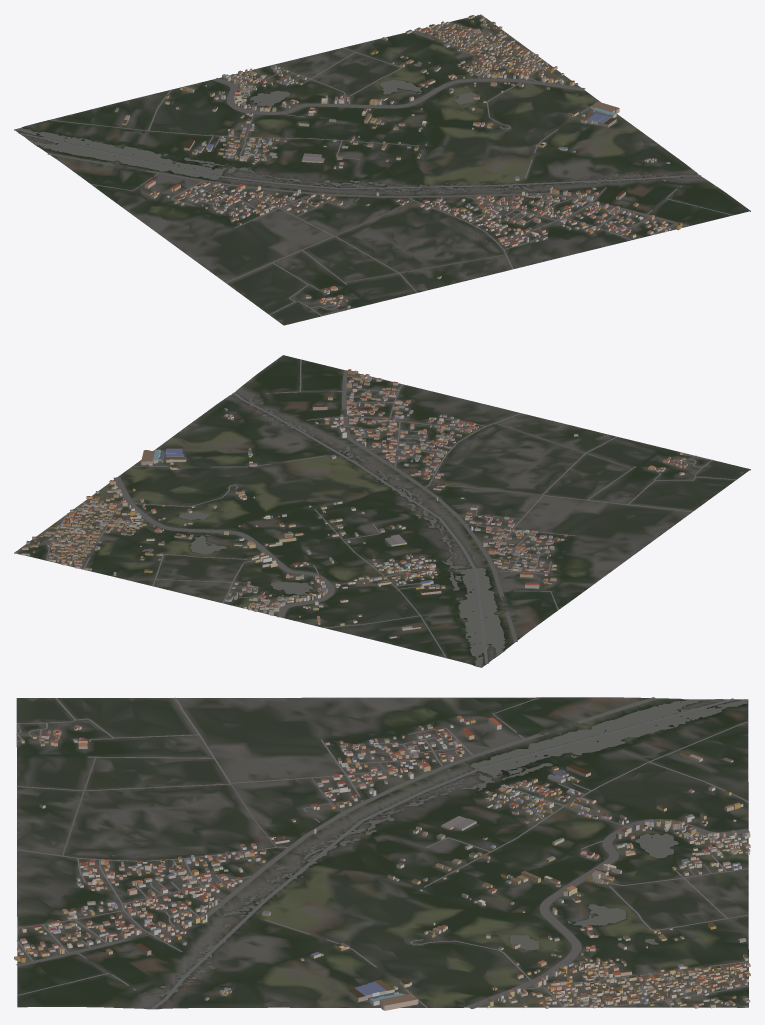
3 renders of one model, top to bottom at view 1: azimuth 30°, elevation 25°; view 2: azimuth 150°, elevation 25°; view 3: azimuth 270°, elevation 25°, orthographic. The views are drawn at different scales.
Parts seen in each view (by area): view 1: ground, buildings, roads, water; view 2: ground, buildings, roads, water; view 3: ground, buildings, roads, water.
Boxes of the visible parts, x1,y1,x2,y2 form: ground: (14,14,750,325); buildings: (115,15,682,308); roads: (47,14,733,316); water: (15,15,701,241); ground: (14,355,750,667); buildings: (21,369,687,638); roads: (15,359,736,657); water: (17,392,505,667); ground: (16,697,748,1009); buildings: (14,715,750,1010); roads: (16,697,749,1008); water: (112,698,748,1009).
Size of the model in its own units: 1421 by 22.09 by 1412.
